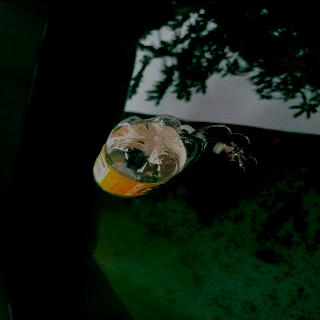bottle: (92, 114, 200, 198)
